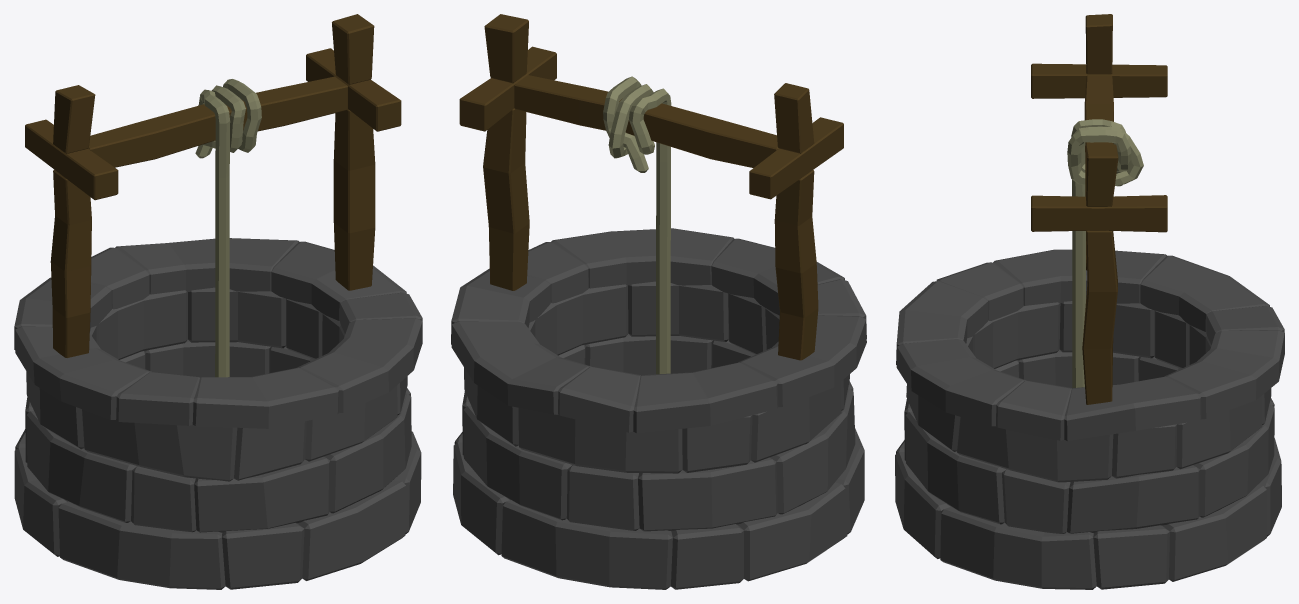
Rendered from WellClean.fbx.
3 renders of one model, left to right at view 1: azimuth 30°, elevation 25°; view 2: azimuth 150°, elevation 25°; view 3: azimuth 270°, elevation 25°, orthographic. The views are drawn at different scales.
Visible parts, largest first — view 1: Cube.004, Cube, Cube.003, Cube.002, Cube.001, Cylinder; view 2: Cube.004, Cube, Cube.002, Cube.003, Cube.001, Cylinder; view 3: Cube.004, Cube.003, Cube.002, Cube.001, Cube, Cylinder.
Part boxes in pixels (x1,y1,x2,y2): Cube.004: (14, 238, 422, 428); Cube: (25, 14, 401, 357); Cube.003: (26, 287, 407, 481); Cube.002: (25, 340, 411, 532); Cube.001: (14, 429, 421, 589); Cylinder: (195, 79, 261, 377); Cube.004: (451, 228, 866, 433); Cube: (459, 14, 843, 360); Cube.002: (462, 333, 855, 531); Cube.003: (464, 281, 849, 473); Cube.001: (453, 428, 864, 589); Cylinder: (603, 76, 671, 374); Cube.004: (896, 249, 1284, 440); Cube.003: (906, 301, 1271, 482); Cube.002: (904, 349, 1274, 533); Cube.001: (895, 438, 1281, 589); Cube: (1031, 14, 1167, 404); Cylinder: (1067, 119, 1143, 388).
Size of the model in its own units: 1374 by 1640 by 1356.
